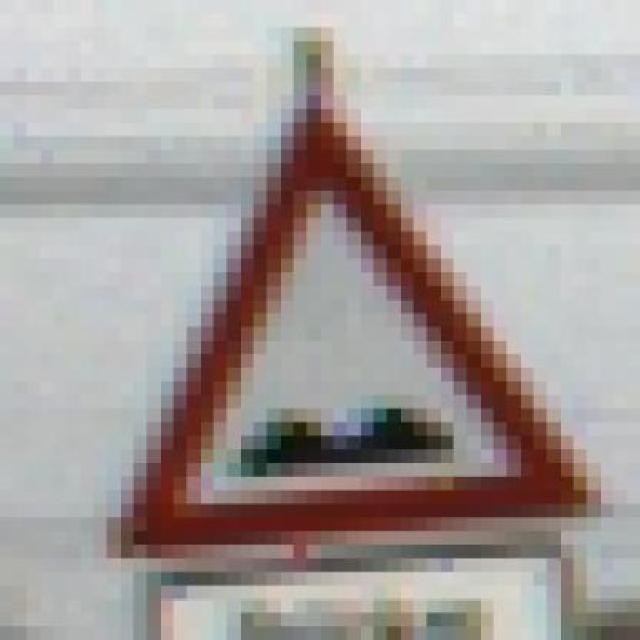Uneven Road: (107, 110, 627, 558)
